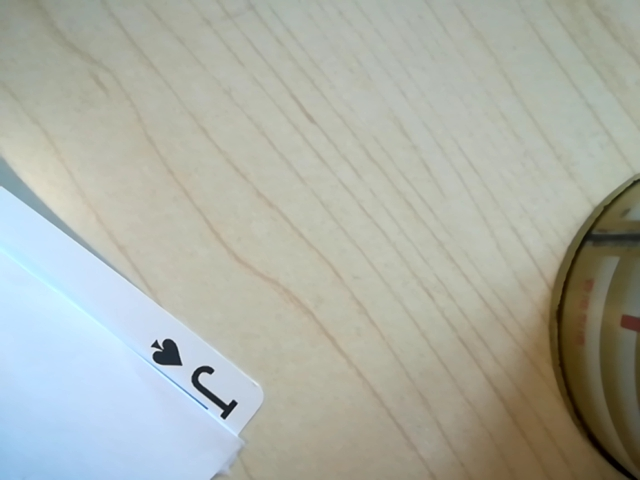ht j: (137, 331, 259, 430)
